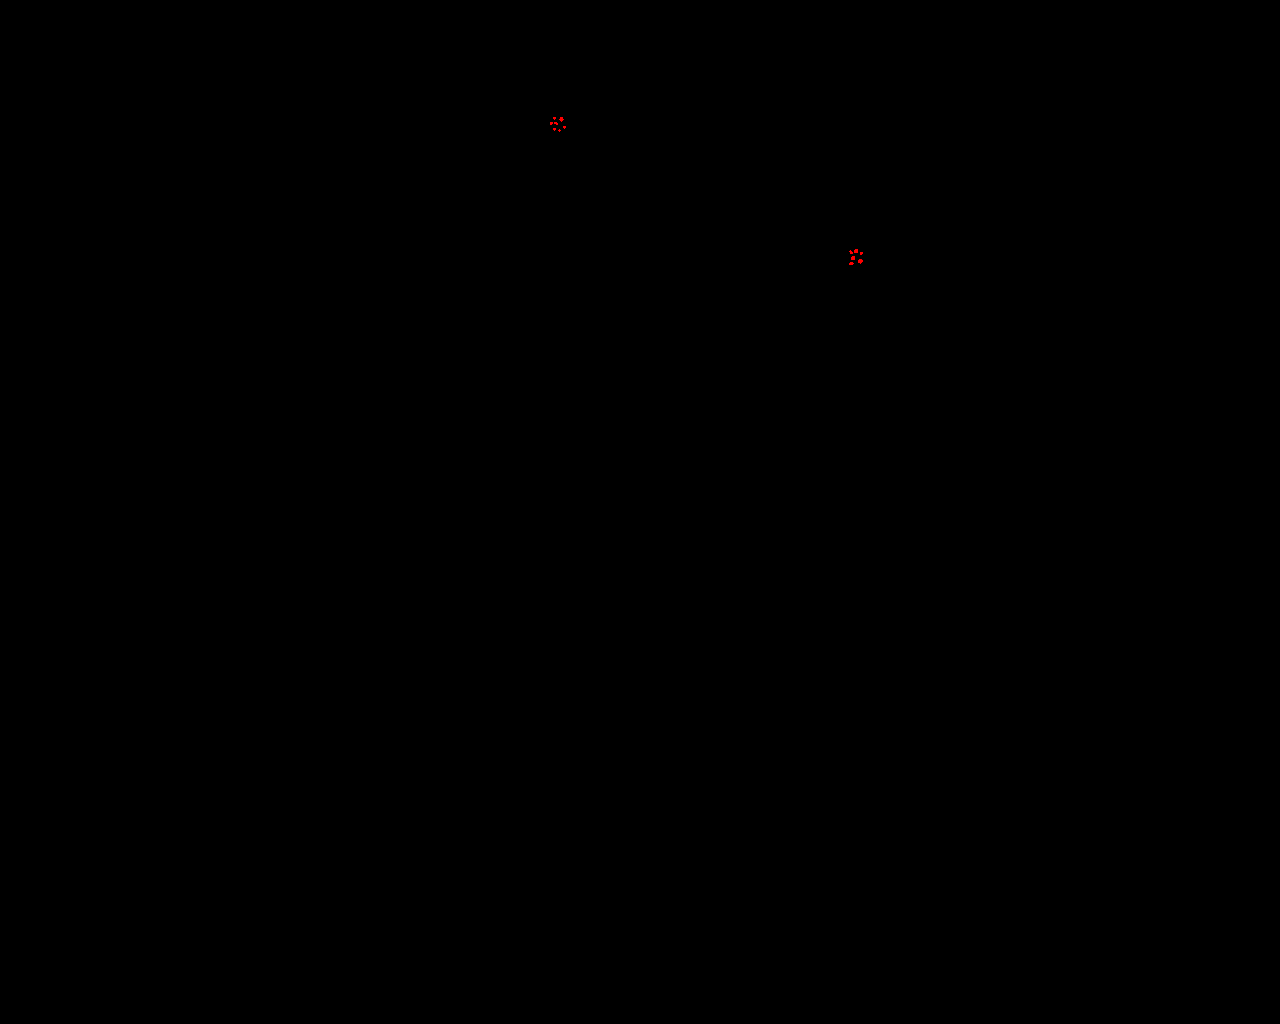Target: (559, 117, 564, 122), (858, 259, 863, 264), (854, 249, 858, 253), (851, 256, 855, 260), (554, 122, 558, 125), (850, 250, 853, 254), (850, 262, 854, 265), (553, 117, 556, 120), (550, 122, 553, 125), (553, 127, 556, 131), (558, 129, 561, 132), (860, 252, 863, 255), (563, 126, 566, 129)
